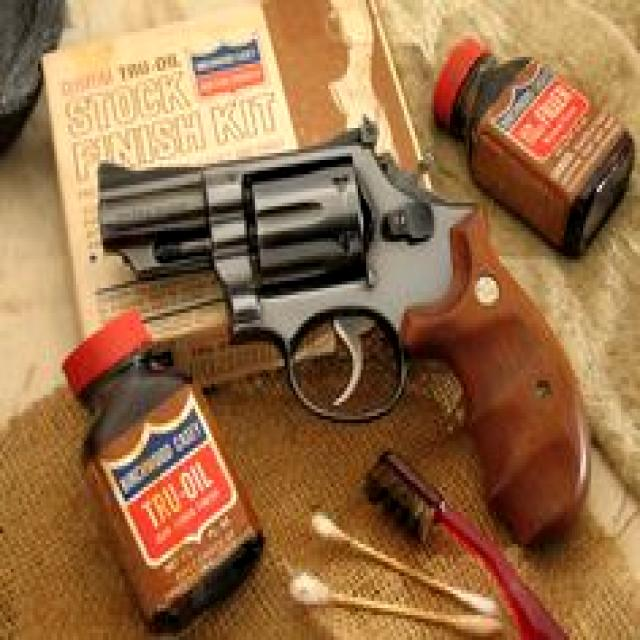revolver: (0, 108, 617, 552)
